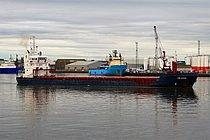Ship: (19, 31, 199, 93)
